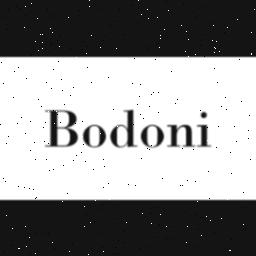b: (42, 98, 80, 148)
o: (81, 118, 111, 152), (138, 120, 168, 152)
